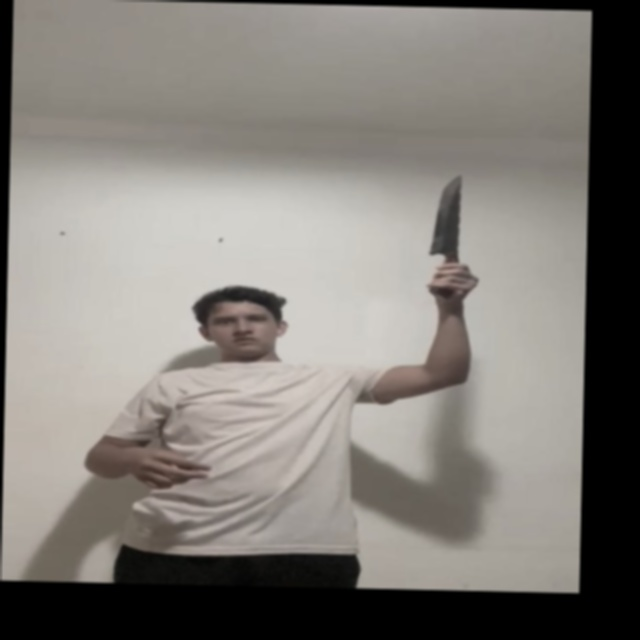Sharp-Object: (427, 176, 464, 256)
